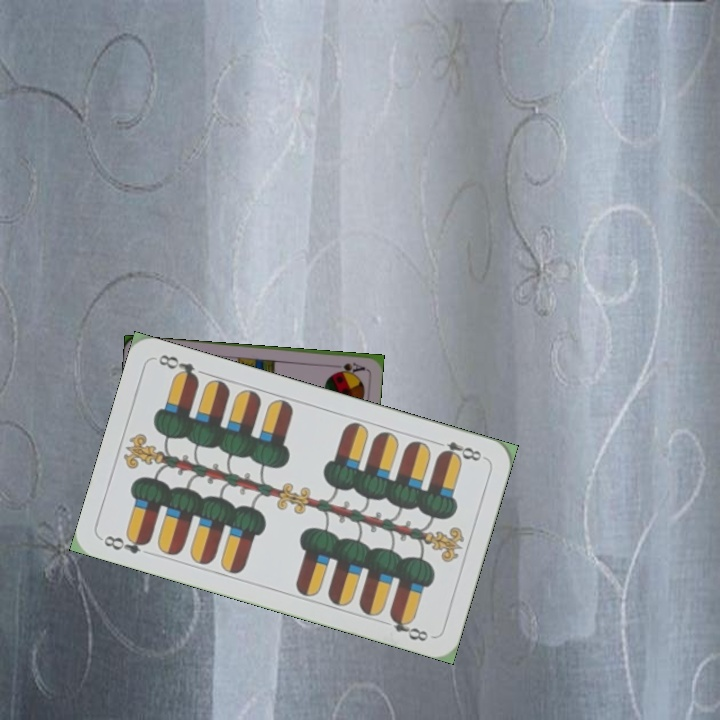E8: (430, 436, 484, 464), (99, 530, 152, 557)
SA: (332, 358, 367, 375)
